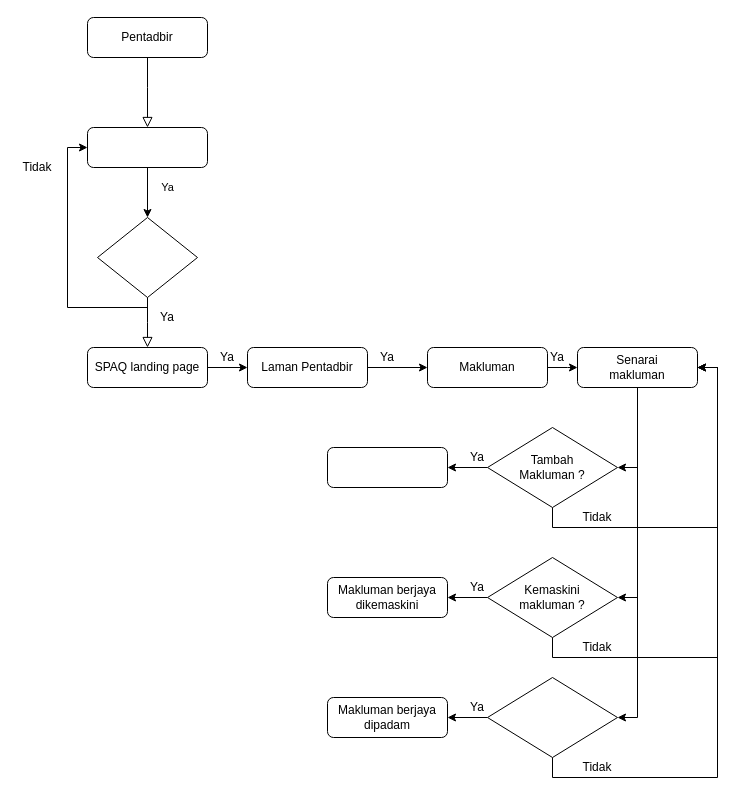
Some shapes in this 743 by 803 pixel diagram are drawn without their labels. Each missing label, with the centre of its shape:
Halaman Log Masuk: the point at 147,147
Log masuk?: the point at 147,257
Makluman berjaya ditambah: the point at 387,467
Padam Makluman ?: the point at 552,717
